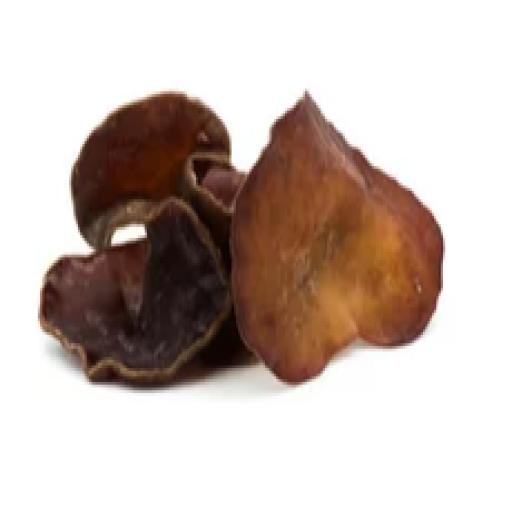Wood Ear Mushroom: (35, 82, 451, 404)
